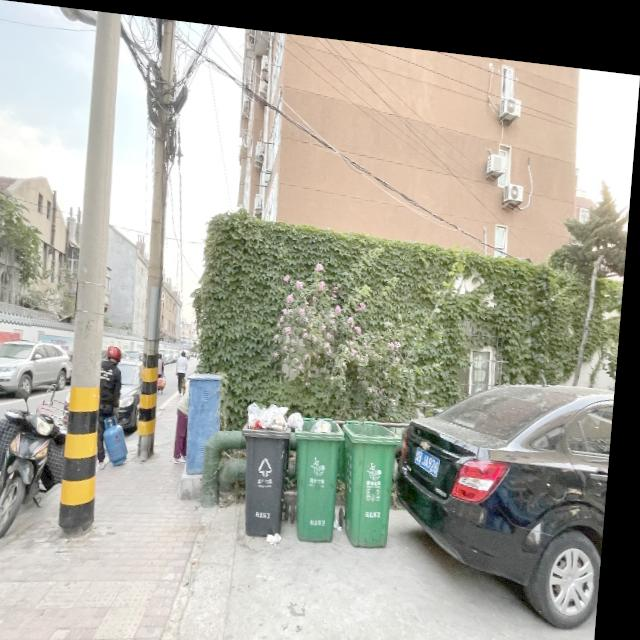garbage_bin: (341, 408, 409, 539)
overflow: (242, 393, 311, 531), (293, 405, 352, 534)
